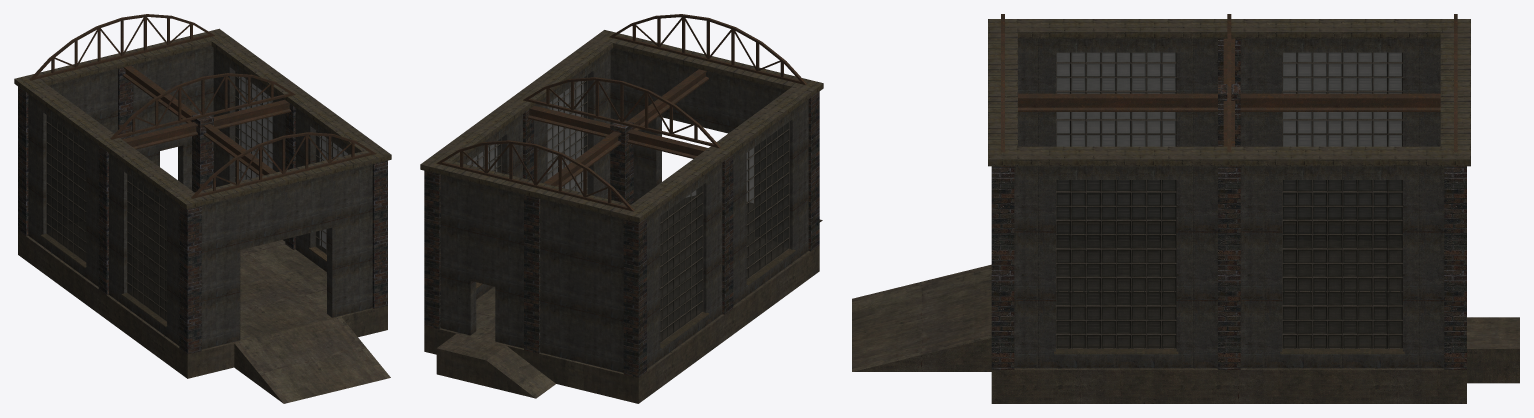
File: warehouse_mx_3.glb
3 views of the same model, side by side, from view 1: azimuth 30°, elevation 25°; view 2: azimuth 150°, elevation 25°; view 3: azimuth 270°, elevation 25° (orthographic). The views are drawn at different scales.
Parts seen in each view (by area): view 1: warehouse_mx_3; view 2: warehouse_mx_3; view 3: warehouse_mx_3.
Boxes of the visible parts, <box> form: warehouse_mx_3: <box>14,14,391,403</box>; warehouse_mx_3: <box>420,14,823,403</box>; warehouse_mx_3: <box>852,14,1519,403</box>.
Size of the model in its own units: 8.8 by 8.82 by 17.7.
Materials: 9 (9 with a texture image).
